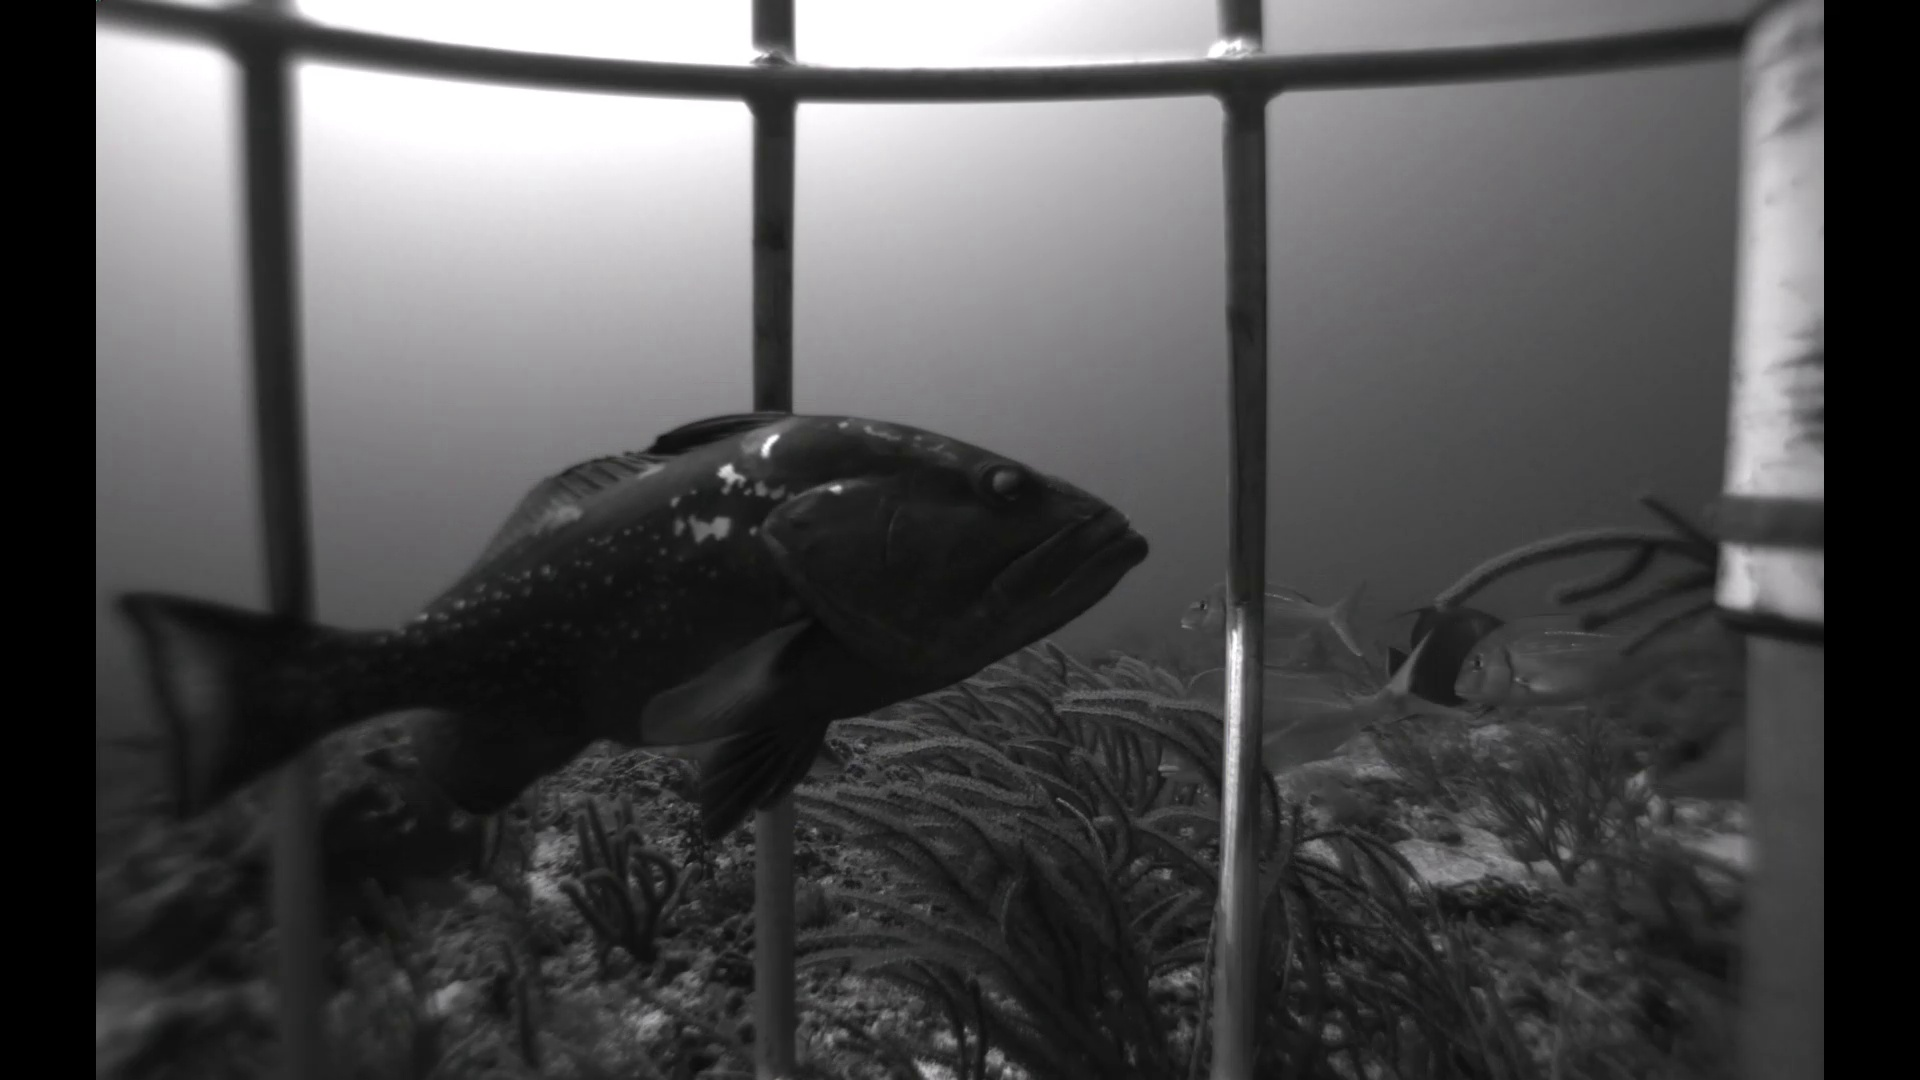CALAMUSNODOSUS-170210608: (1155, 640, 1449, 781)
EPINEPHELUSMORIO-170021211: (111, 375, 1143, 885), (207, 731, 534, 938)
LUTJANUSGRISEUS-170151109: (592, 713, 857, 800), (1636, 684, 1750, 808)
PAGRUSPAGRUS-170212302: (1428, 595, 1741, 719), (1170, 576, 1373, 655)
POMACANTHUSARCUATUS-170290201: (1367, 589, 1530, 723)
